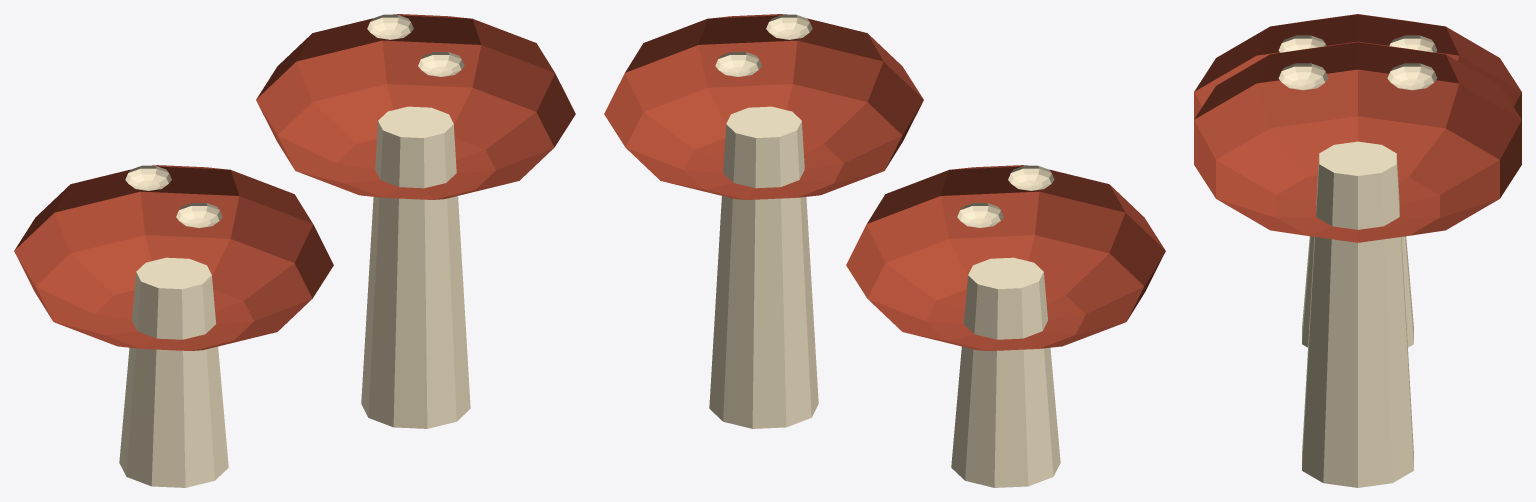
File: turning-seasons-mushroom-cluster-62541795__2134.glb
3 renders of one model, left to right at view 1: azimuth 30°, elevation 25°; view 2: azimuth 150°, elevation 25°; view 3: azimuth 270°, elevation 25°, orthographic. The views are drawn at different scales.
Parts seen in each view (by area): view 1: mushroom-cluster; view 2: mushroom-cluster; view 3: mushroom-cluster.
Boxes of the visible parts, <box> form: mushroom-cluster: <box>14,14,575,487</box>; mushroom-cluster: <box>604,14,1165,487</box>; mushroom-cluster: <box>1194,14,1521,487</box>.
Size of the model in its own units: 0.71 by 0.481 by 0.3614.
